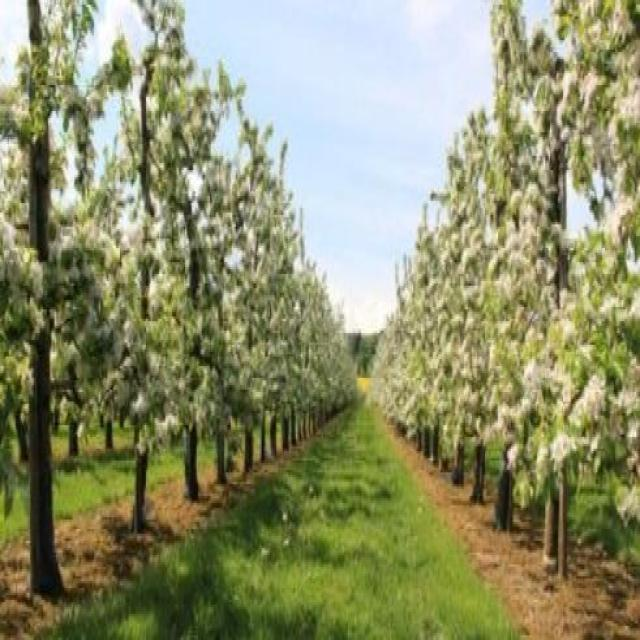row: (60, 400, 521, 640)
